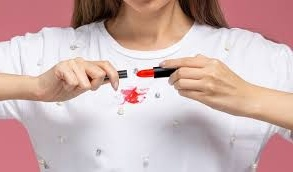lipstick: (121, 88, 145, 107)
